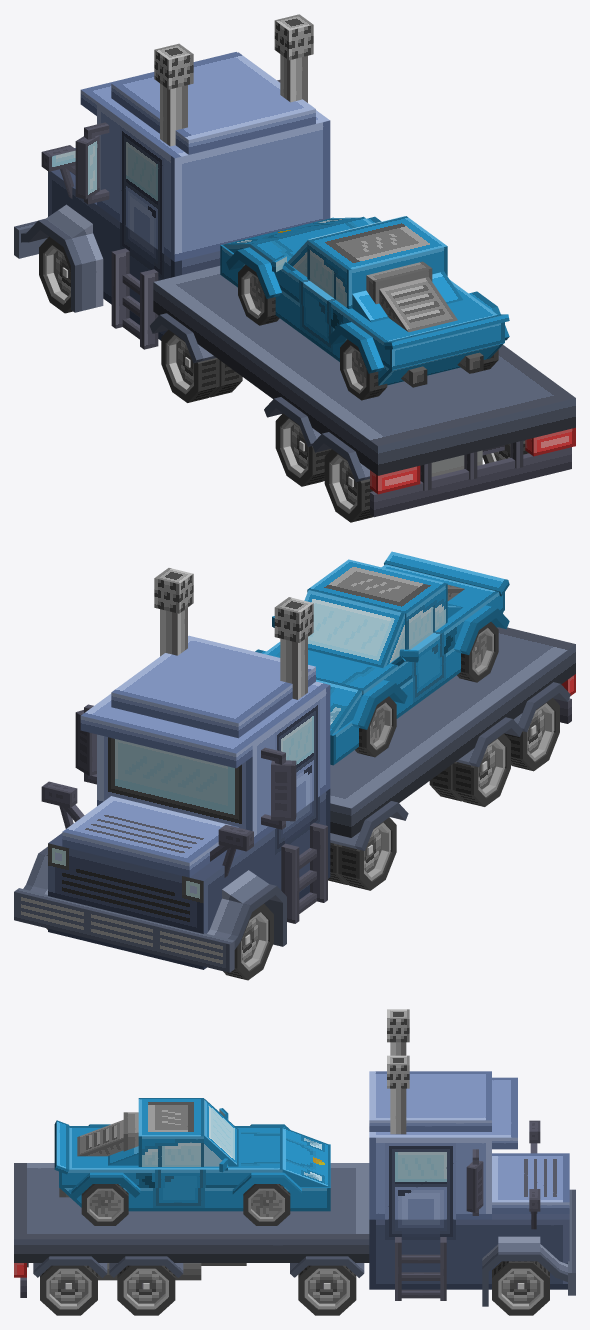
3 renders of one model, top to bottom at view 1: azimuth 30°, elevation 25°; view 2: azimuth 150°, elevation 25°; view 3: azimuth 270°, elevation 25°, orthographic. The views are drawn at different scales.
Visible parts, largest first — view 1: 56fb462d-5e42-2328-d42e-224dbefdc575, 742261dd-6acc-4ad6-0853-9a7bf0b627e9, 1b21147f-1fee-8bea-3190-1a0269bcf6d5, 45d9bac3-d825-c4dc-650b-43cc1cf6f376, 81d2cb9d-a125-2dcf-45e9-6724a5cc49c7, 8ab529fa-6238-dfa3-9e9d-5bad9a7a0369, ae90d73c-2042-5ee0-462e-3bf8febf1d9a, 7d2e4475-a00e-3a07-66bf-c0df283231d9, 0b36982f-2a02-42bb-6146-4e2ac1edc0d0, 7eaf55a7-3ea2-98f2-84f8-63fcca0fd6c5, 71753532-eb47-1109-74a8-38b4464c7200, 0a142fd0-7abf-fede-f84a-df5dc6c39d52 (+18 smaller); view 2: 56fb462d-5e42-2328-d42e-224dbefdc575, 742261dd-6acc-4ad6-0853-9a7bf0b627e9, 8ab529fa-6238-dfa3-9e9d-5bad9a7a0369, 1b21147f-1fee-8bea-3190-1a0269bcf6d5, fd9a6a75-a26e-4ad8-72ef-37259869e903, 4e328b2c-8c30-9e9b-1c40-c90adda0abd4, 81d2cb9d-a125-2dcf-45e9-6724a5cc49c7, 45d9bac3-d825-c4dc-650b-43cc1cf6f376, 086619e5-b623-5d27-69a8-30378e9d16e7, 165a5dd8-2621-cd43-fd1f-404bafc1b123, 0b36982f-2a02-42bb-6146-4e2ac1edc0d0, ea16525d-3d6f-080b-d9c8-72209e44b894 (+20 smaller); view 3: 56fb462d-5e42-2328-d42e-224dbefdc575, 742261dd-6acc-4ad6-0853-9a7bf0b627e9, 8ab529fa-6238-dfa3-9e9d-5bad9a7a0369, 1b21147f-1fee-8bea-3190-1a0269bcf6d5, 45d9bac3-d825-c4dc-650b-43cc1cf6f376, 81d2cb9d-a125-2dcf-45e9-6724a5cc49c7, fd9a6a75-a26e-4ad8-72ef-37259869e903, 0b36982f-2a02-42bb-6146-4e2ac1edc0d0, 1eb85e17-2188-4805-d2b2-da13515a85ce, 165a5dd8-2621-cd43-fd1f-404bafc1b123, 086619e5-b623-5d27-69a8-30378e9d16e7, 7d2e4475-a00e-3a07-66bf-c0df283231d9 (+26 smaller).
Boxes of the visible parts, x1,y1,x2,y2 form: 56fb462d-5e42-2328-d42e-224dbefdc575: (153,266,575,475); 742261dd-6acc-4ad6-0853-9a7bf0b627e9: (97,98,330,261); 1b21147f-1fee-8bea-3190-1a0269bcf6d5: (111,52,315,154); 45d9bac3-d825-c4dc-650b-43cc1cf6f376: (250,216,504,370); 81d2cb9d-a125-2dcf-45e9-6724a5cc49c7: (307,216,447,308); 8ab529fa-6238-dfa3-9e9d-5bad9a7a0369: (48,169,220,340); ae90d73c-2042-5ee0-462e-3bf8febf1d9a: (370,447,571,517); 7d2e4475-a00e-3a07-66bf-c0df283231d9: (379,277,457,332); 0b36982f-2a02-42bb-6146-4e2ac1edc0d0: (220,217,347,361); 7eaf55a7-3ea2-98f2-84f8-63fcca0fd6c5: (71,259,103,312); 71753532-eb47-1109-74a8-38b4464c7200: (274,14,313,60); 0a142fd0-7abf-fede-f84a-df5dc6c39d52: (154,43,193,89); 56fb462d-5e42-2328-d42e-224dbefdc575: (330,627,575,837); 742261dd-6acc-4ad6-0853-9a7bf0b627e9: (97,681,330,843); 8ab529fa-6238-dfa3-9e9d-5bad9a7a0369: (48,789,330,969); 1b21147f-1fee-8bea-3190-1a0269bcf6d5: (111,635,315,738); fd9a6a75-a26e-4ad8-72ef-37259869e903: (62,796,238,877); 4e328b2c-8c30-9e9b-1c40-c90adda0abd4: (14,888,234,972); 81d2cb9d-a125-2dcf-45e9-6724a5cc49c7: (307,559,447,649); 45d9bac3-d825-c4dc-650b-43cc1cf6f376: (263,564,504,696); 086619e5-b623-5d27-69a8-30378e9d16e7: (304,590,404,667); 165a5dd8-2621-cd43-fd1f-404bafc1b123: (80,704,252,768); 0b36982f-2a02-42bb-6146-4e2ac1edc0d0: (330,648,460,765); ea16525d-3d6f-080b-d9c8-72209e44b894: (384,551,509,596); 56fb462d-5e42-2328-d42e-224dbefdc575: (14,1163,369,1262); 742261dd-6acc-4ad6-0853-9a7bf0b627e9: (369,1132,491,1219); 8ab529fa-6238-dfa3-9e9d-5bad9a7a0369: (369,1214,569,1289); 1b21147f-1fee-8bea-3190-1a0269bcf6d5: (369,1071,491,1131); 45d9bac3-d825-c4dc-650b-43cc1cf6f376: (59,1126,282,1187); 81d2cb9d-a125-2dcf-45e9-6724a5cc49c7: (138,1098,203,1166); fd9a6a75-a26e-4ad8-72ef-37259869e903: (492,1153,569,1213); 0b36982f-2a02-42bb-6146-4e2ac1edc0d0: (123,1144,330,1211); 1eb85e17-2188-4805-d2b2-da13515a85ce: (282,1127,330,1187); 165a5dd8-2621-cd43-fd1f-404bafc1b123: (492,1077,517,1149); 086619e5-b623-5d27-69a8-30378e9d16e7: (204,1098,238,1166); 7d2e4475-a00e-3a07-66bf-c0df283231d9: (77,1120,123,1156).
Size of the model in its own units: 31.07 by 41 by 87.
Materials: 2 (2 with a texture image).
